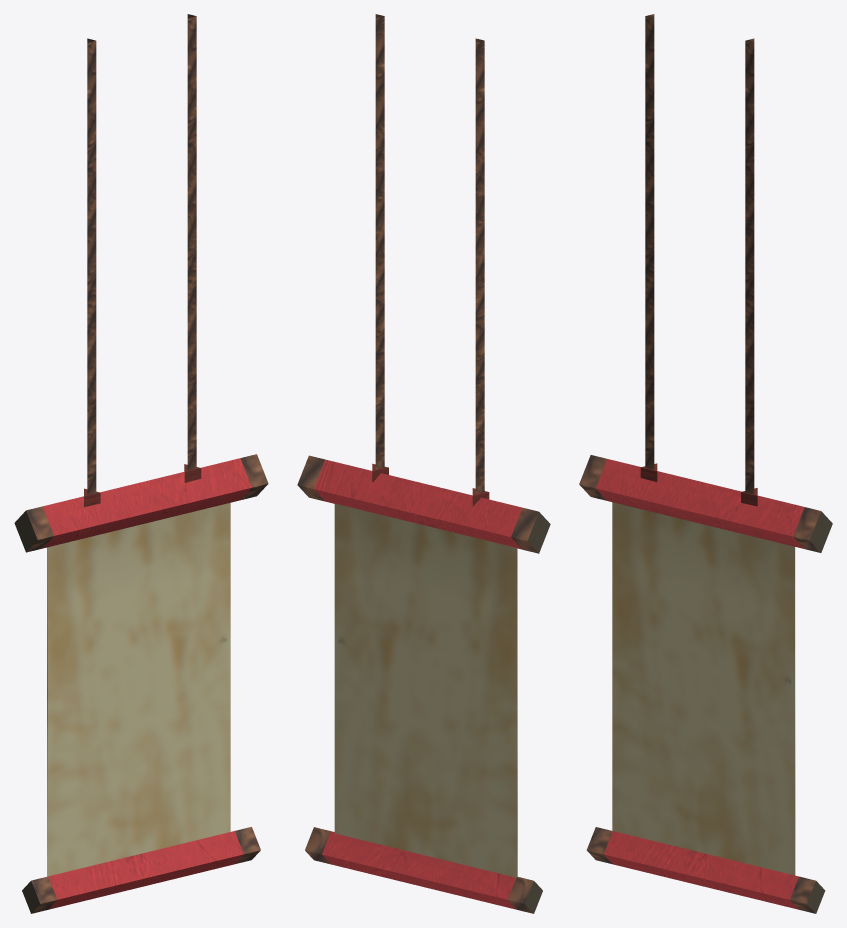
The model's file is Poster02_Art.fbx.
3 views of the same model, side by side, from view 1: azimuth 30°, elevation 25°; view 2: azimuth 150°, elevation 25°; view 3: azimuth 330°, elevation 25° (orthographic).
Parts seen in each view (by area): view 1: Poster02_Art; view 2: Poster02_Art; view 3: Poster02_Art.
Part boxes in pixels (x1,y1,x2,y2): Poster02_Art: [14, 14, 268, 913]; Poster02_Art: [297, 14, 550, 913]; Poster02_Art: [579, 14, 832, 913].
Bounding box in the file's own units: 1.61 × 5.72 × 0.2808.
